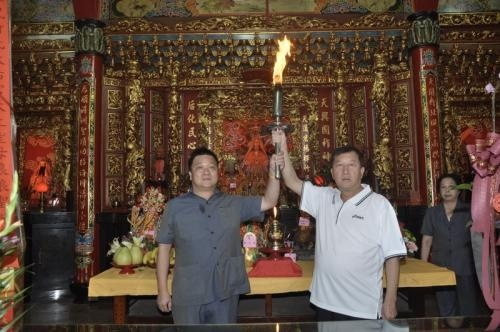fire: (271, 35, 294, 83)
